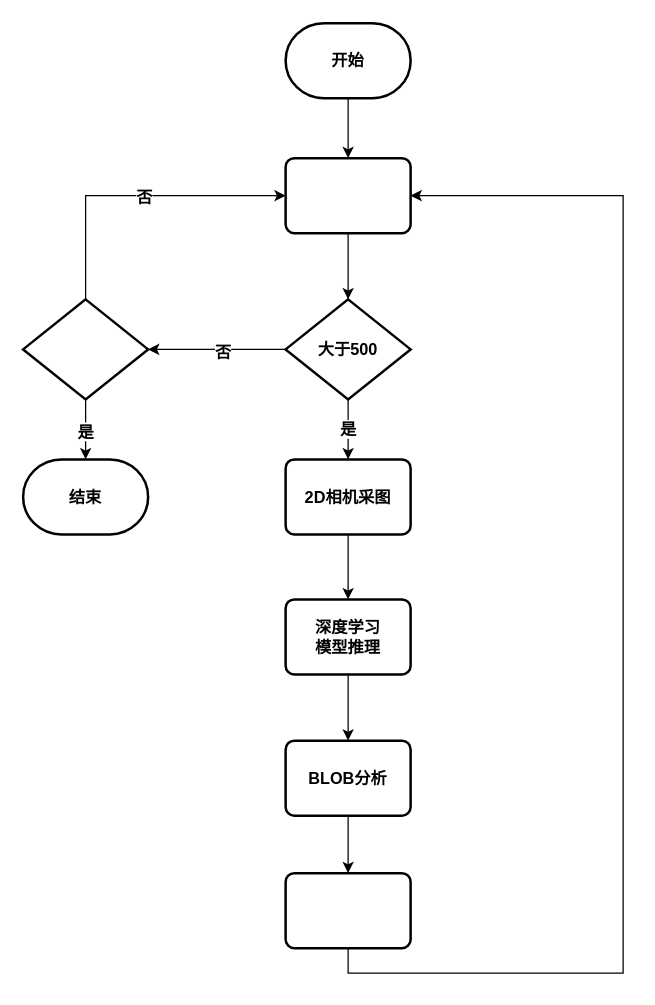
This 655x1005 diagram has some shape labels left out. The box of each missing label's shape, as (x1, y1, x2, y2) in pixels:
是否结束: (21, 298, 149, 400)
测温相机测温: (284, 156, 411, 234)
输出尺寸信息: (284, 871, 411, 949)
